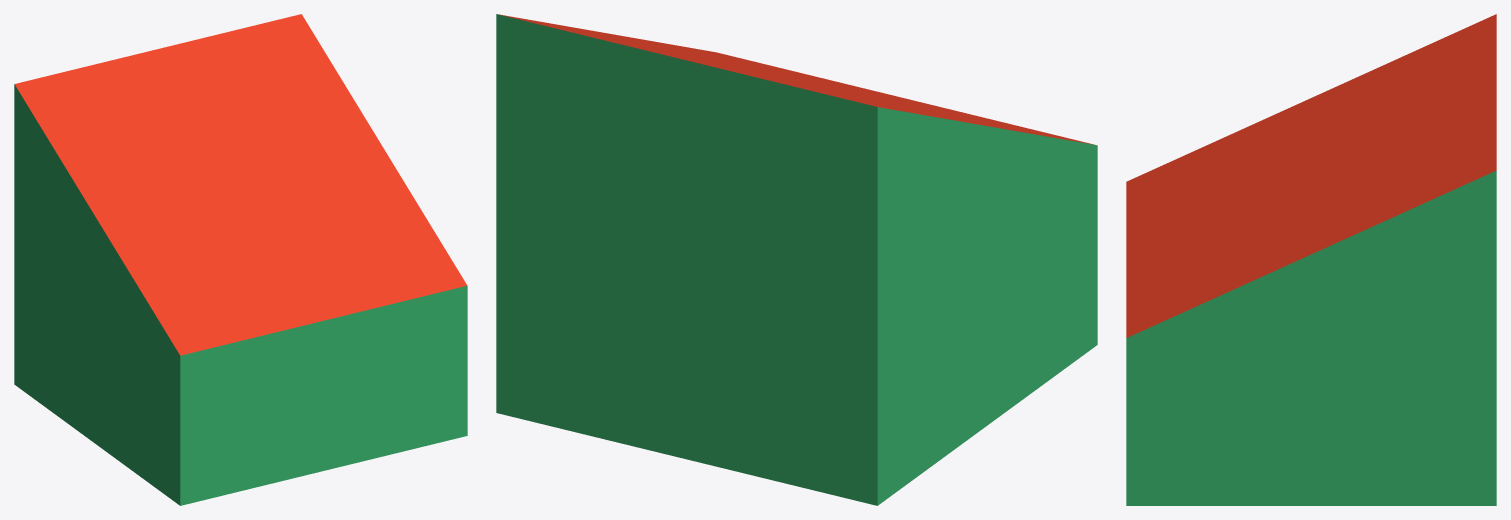
Rendered from r2c2_body_green.gltf.
3 views of the same model, side by side, from view 1: azimuth 30°, elevation 25°; view 2: azimuth 150°, elevation 25°; view 3: azimuth 270°, elevation 25° (orthographic). The views are drawn at different scales.
Visible parts, largest first — view 1: r2c2_body_green; view 2: r2c2_body_green; view 3: r2c2_body_green.
Part boxes in pixels (x1=…): r2c2_body_green: x1=14, y1=14, x2=467, y2=505; r2c2_body_green: x1=496, y1=14, x2=1097, y2=505; r2c2_body_green: x1=1126, y1=14, x2=1496, y2=505.
Size of what is drawn, in the model's own units: 2 by 2 by 2.
Materials: 1 (1 with a texture image).
